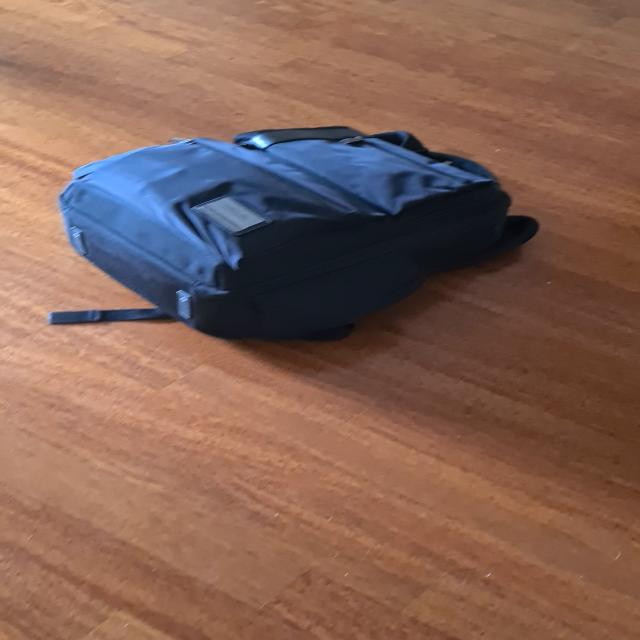backpack: (44, 117, 552, 349)
